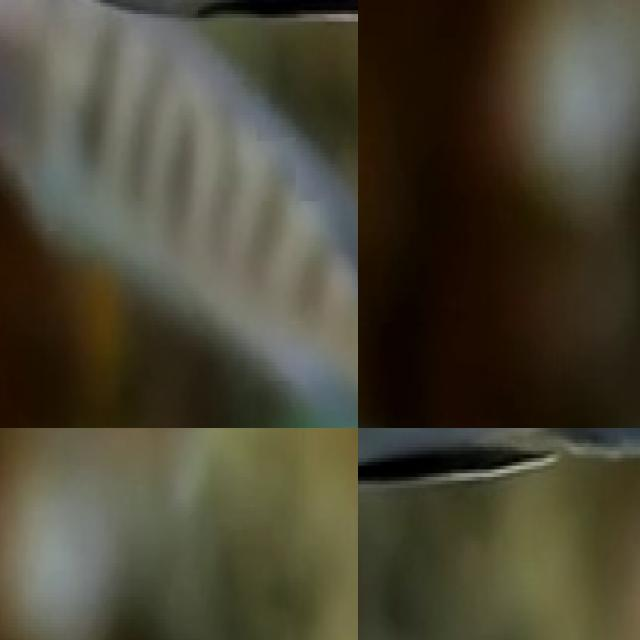fish: (0, 0, 358, 428), (358, 374, 640, 428)
